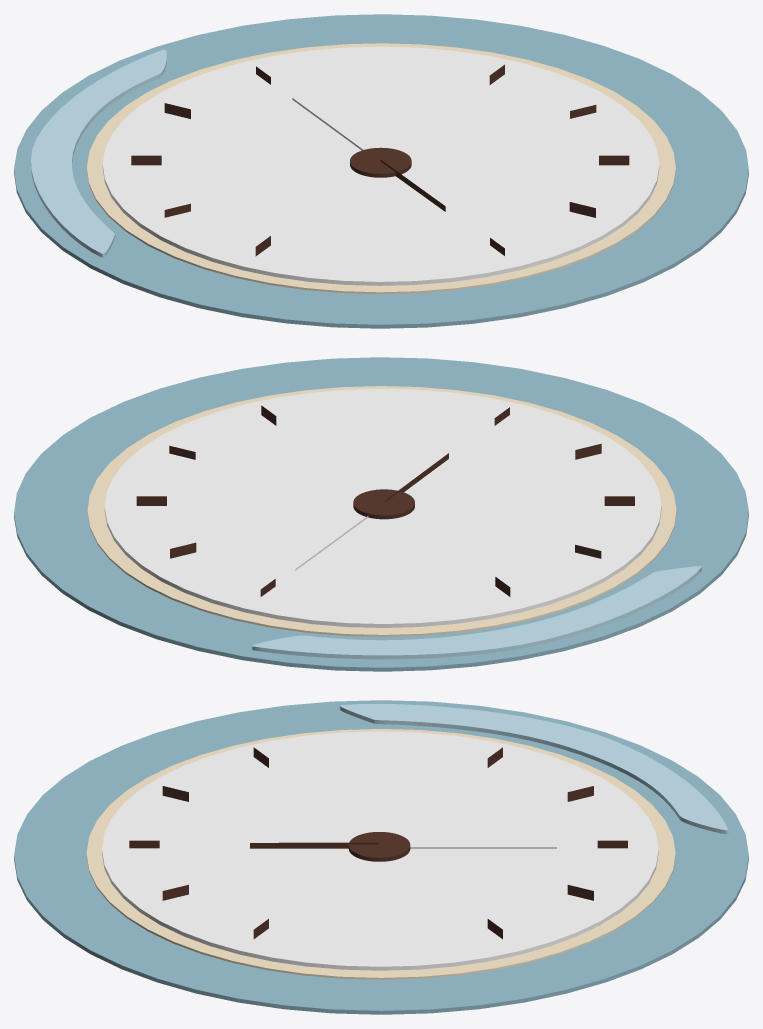
File: emoji_u1f555.glb
3 renders of one model, top to bottom at view 1: azimuth 30°, elevation 25°; view 2: azimuth 150°, elevation 25°; view 3: azimuth 270°, elevation 25°, orthographic.
Parts seen in each view (by area): view 1: emoji_u1f555; view 2: emoji_u1f555; view 3: emoji_u1f555.
Boxes of the visible parts, <box> form: emoji_u1f555: <box>14,14,748,328</box>; emoji_u1f555: <box>14,357,748,671</box>; emoji_u1f555: <box>14,700,748,1014</box>.
Bounding box in the file's own units: 0.0339 × 0.0018 × 0.0339.
